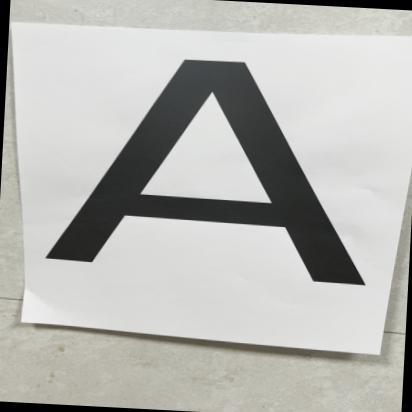seat: (27, 42, 399, 328)
